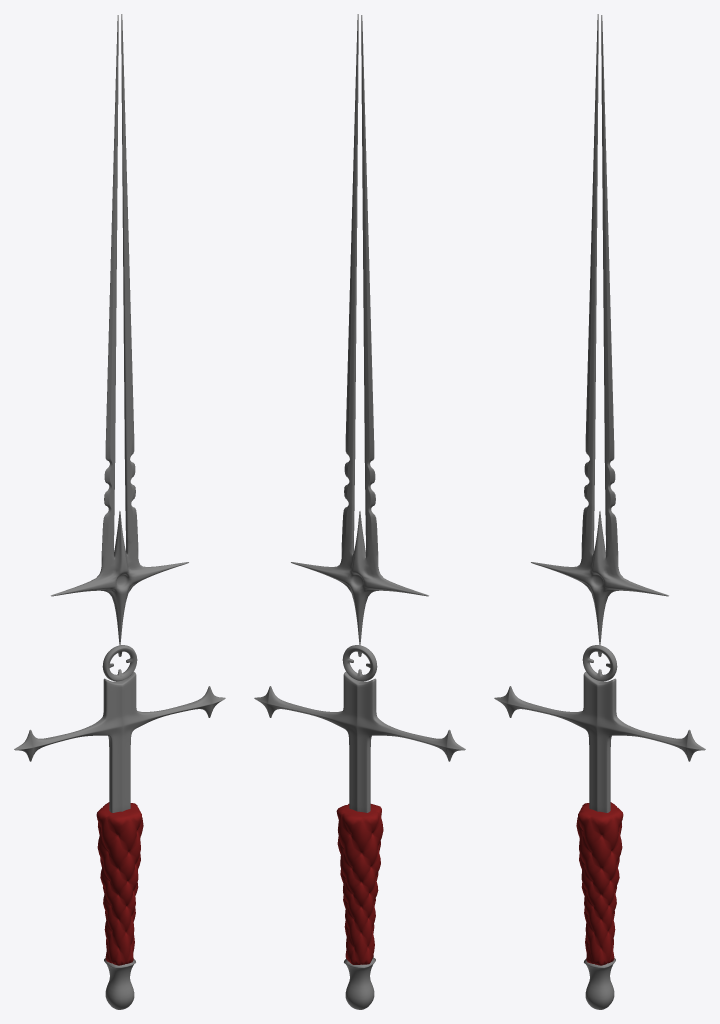
The model's file is Sword_Game_Model.fbx.
3 renders of one model, left to right at view 1: azimuth 30°, elevation 25°; view 2: azimuth 150°, elevation 25°; view 3: azimuth 330°, elevation 25°, orthographic.
Visible parts, largest first — view 1: Sword_Game_Model; view 2: Sword_Game_Model; view 3: Sword_Game_Model.
Part boxes in pixels (x1,y1,x2,y2): Sword_Game_Model: (14,14,225,1009); Sword_Game_Model: (254,14,465,1009); Sword_Game_Model: (494,14,705,1009).
Size of the model in its own units: 102 by 460 by 20.14.
Materials: 1 (1 with a texture image).
